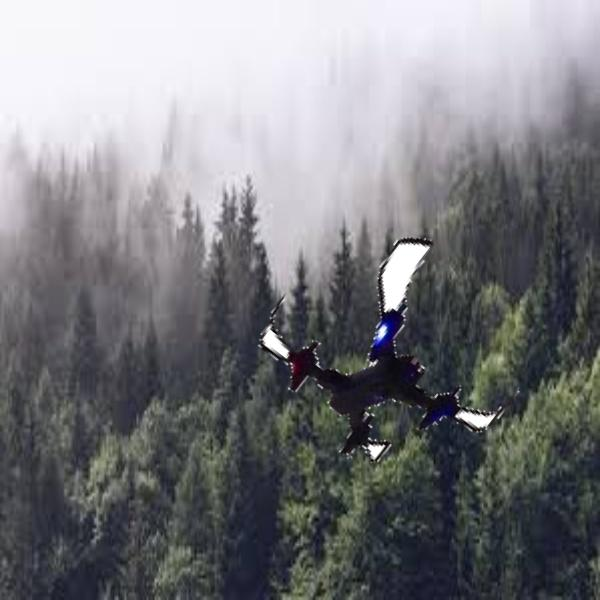drone: (271, 218, 534, 481)
